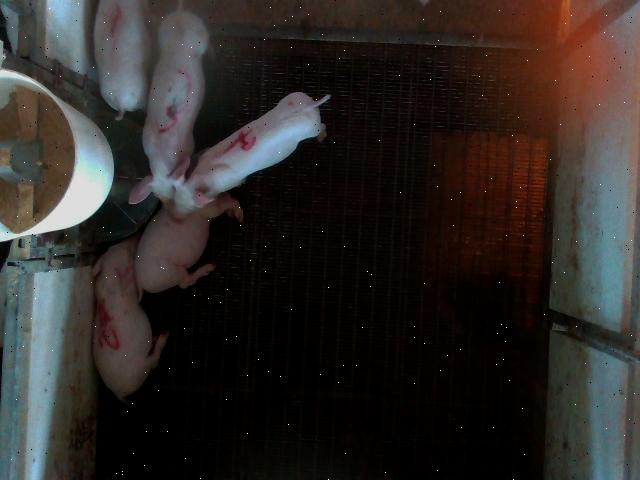pig-1: (94, 1, 150, 120)
pig-3: (131, 4, 209, 204)
pig-4: (170, 93, 330, 219)
pig-5: (91, 233, 169, 402)
